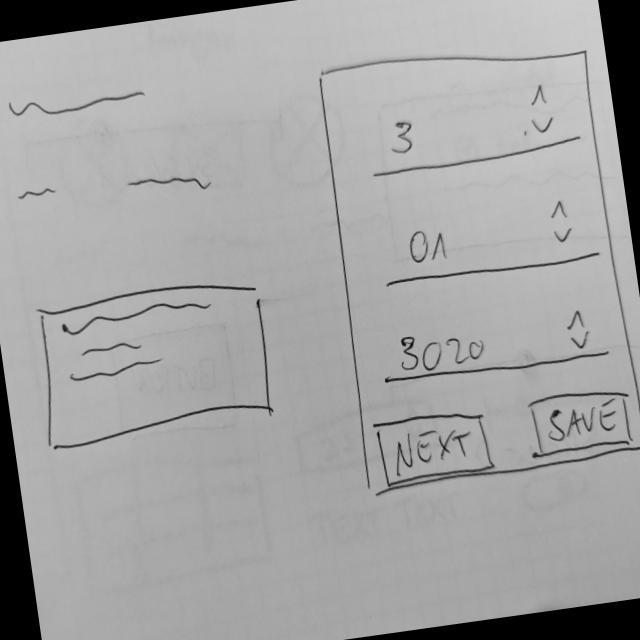button: (373, 405, 498, 491), (525, 384, 637, 461)
container: (305, 27, 640, 501)
number-input: (360, 76, 587, 186), (376, 190, 603, 292), (377, 299, 613, 393)
text: (2, 77, 153, 130), (123, 167, 217, 207), (16, 179, 65, 207)
textbox: (29, 274, 281, 457)
